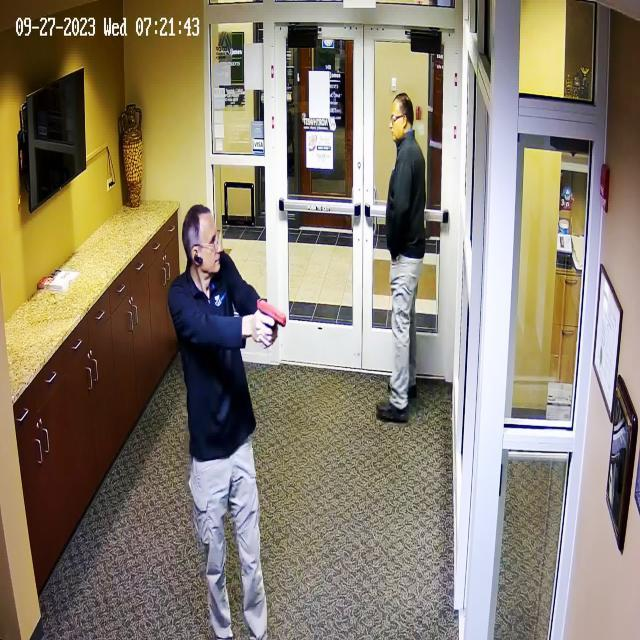Gun: (242, 292, 290, 344)
